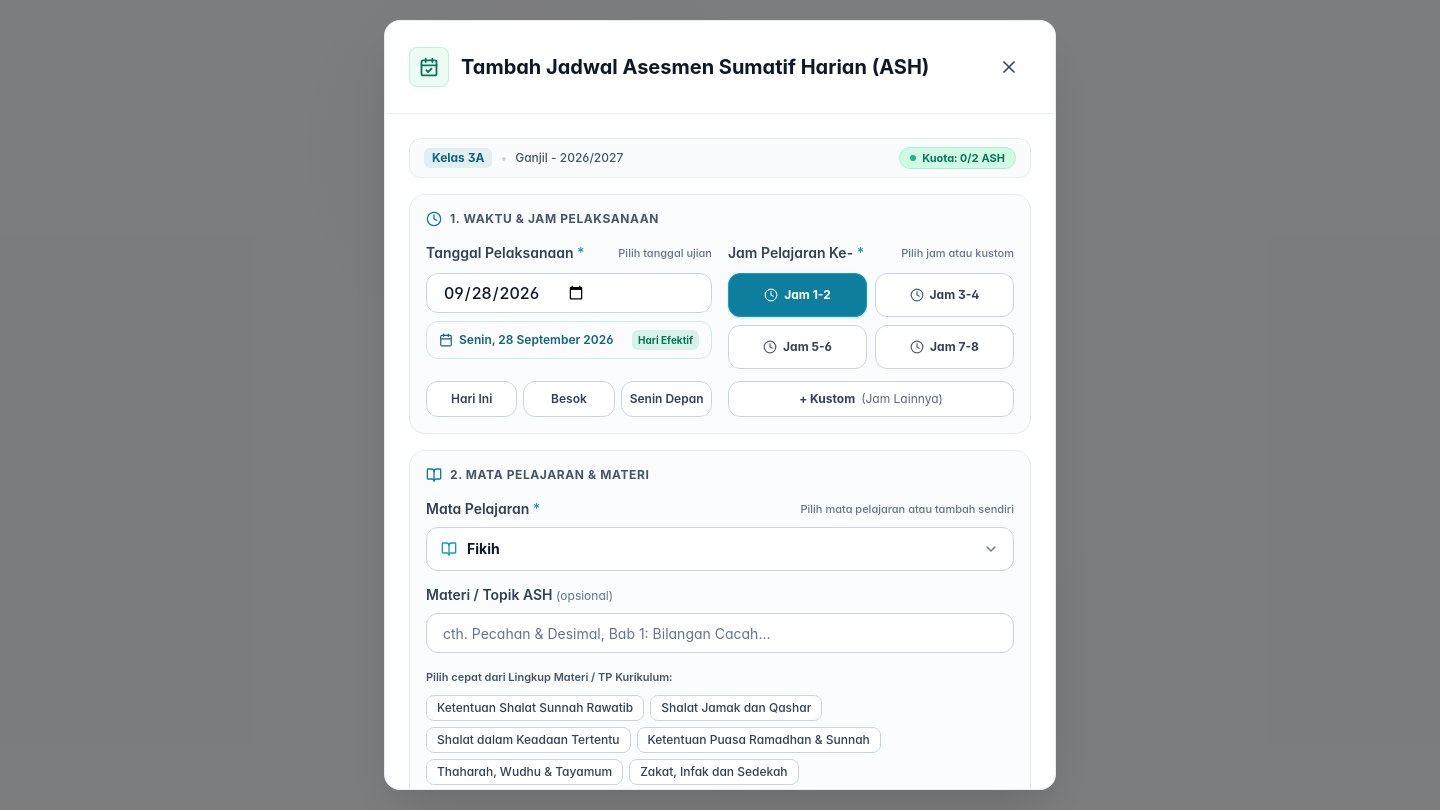
Test: PhScheduleFormModal Component › provides curated quick-pick topic suggestions for Madrasah subjects like Fikih
What coordinates should you click on to do the following:
click the button "Ketentuan Shalat Sunnah Rawatib"
I would click on:
 (535, 708)
Its box is left=426, top=695, right=644, bottom=721.
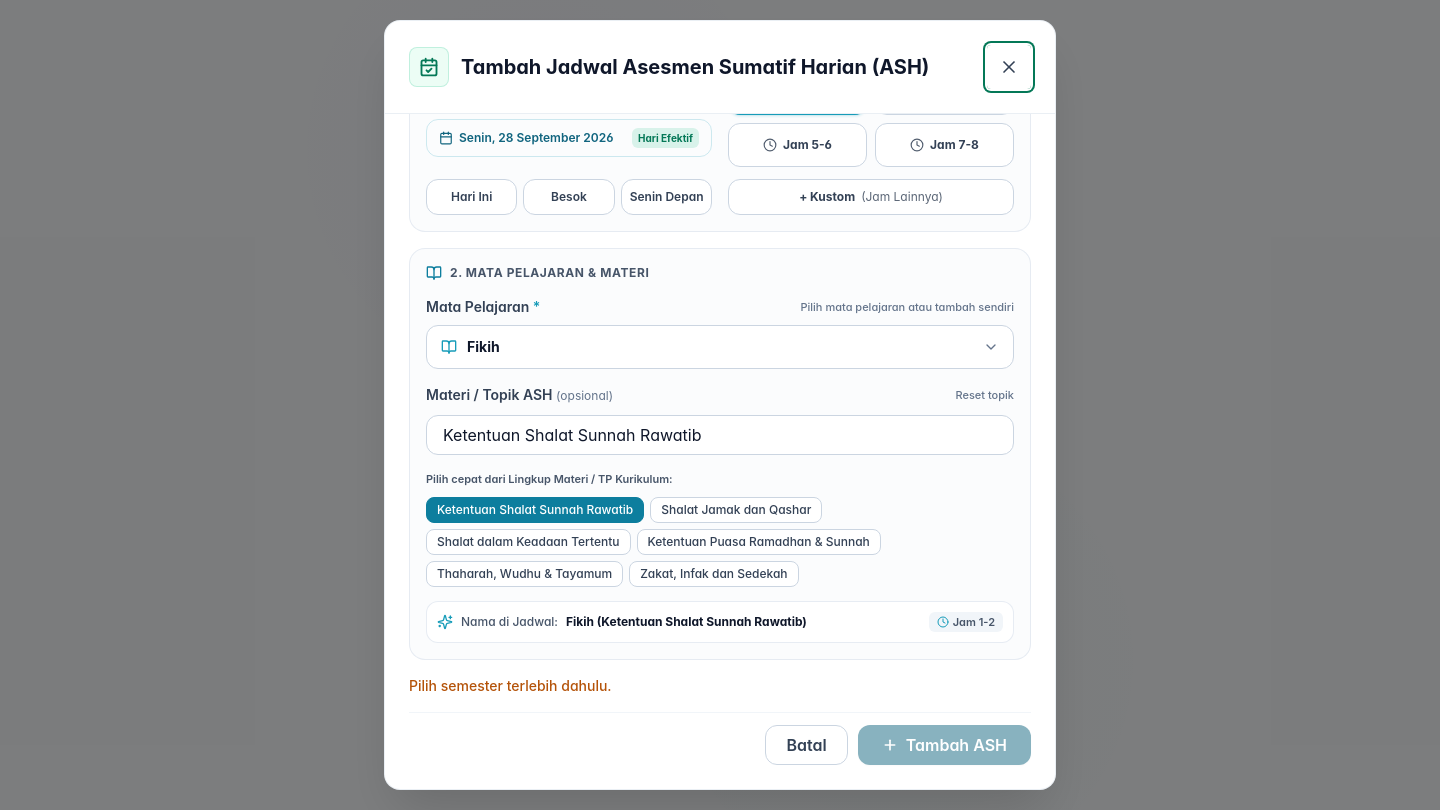
Expected: the text "Fikih (Ketentuan Shalat Sunnah Rawatib)" is shown, left=566, top=614, right=807, bottom=630
